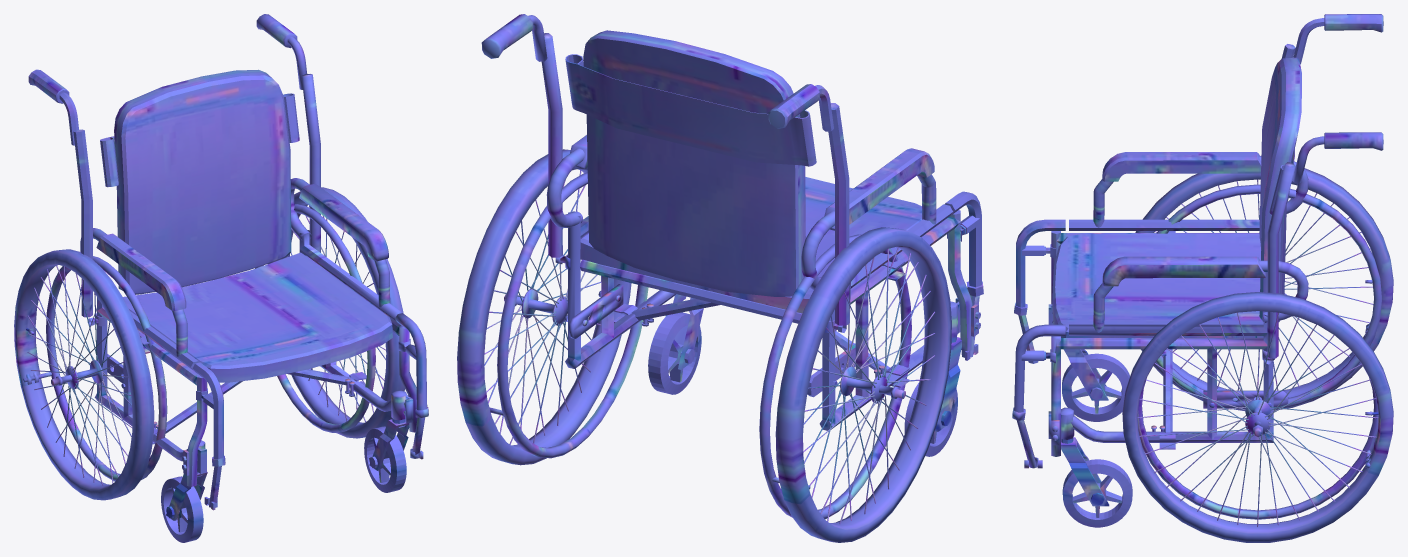
Rendered from Wheelchair.glb.
3 views of the same model, side by side, from view 1: azimuth 30°, elevation 25°; view 2: azimuth 150°, elevation 25°; view 3: azimuth 270°, elevation 25° (orthographic). The views are drawn at different scales.
Visible parts, largest first — view 1: Wheelchair; view 2: Wheelchair; view 3: Wheelchair.
Part boxes in pixels (x1=…): Wheelchair: x1=14, y1=14, x2=428, y2=542; Wheelchair: x1=457, y1=14, x2=983, y2=542; Wheelchair: x1=1012, y1=14, x2=1393, y2=542.
Bounding box in the file's own units: 9.52 × 10.78 × 9.33.
Materials: 1 (1 with a texture image).
